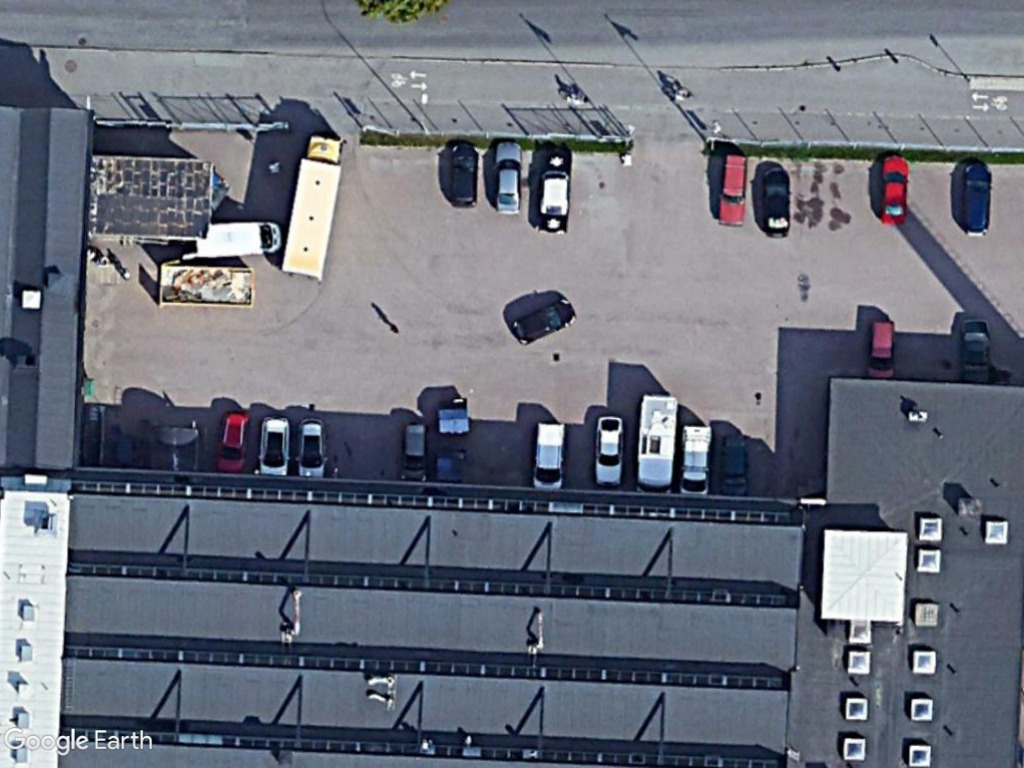car: (507, 295, 579, 349), (957, 158, 995, 240), (588, 412, 628, 488), (715, 148, 751, 229), (757, 165, 794, 240), (212, 409, 254, 475), (874, 153, 911, 227), (490, 138, 526, 214), (443, 138, 481, 209), (864, 318, 899, 383)
truck: (277, 130, 348, 281)
